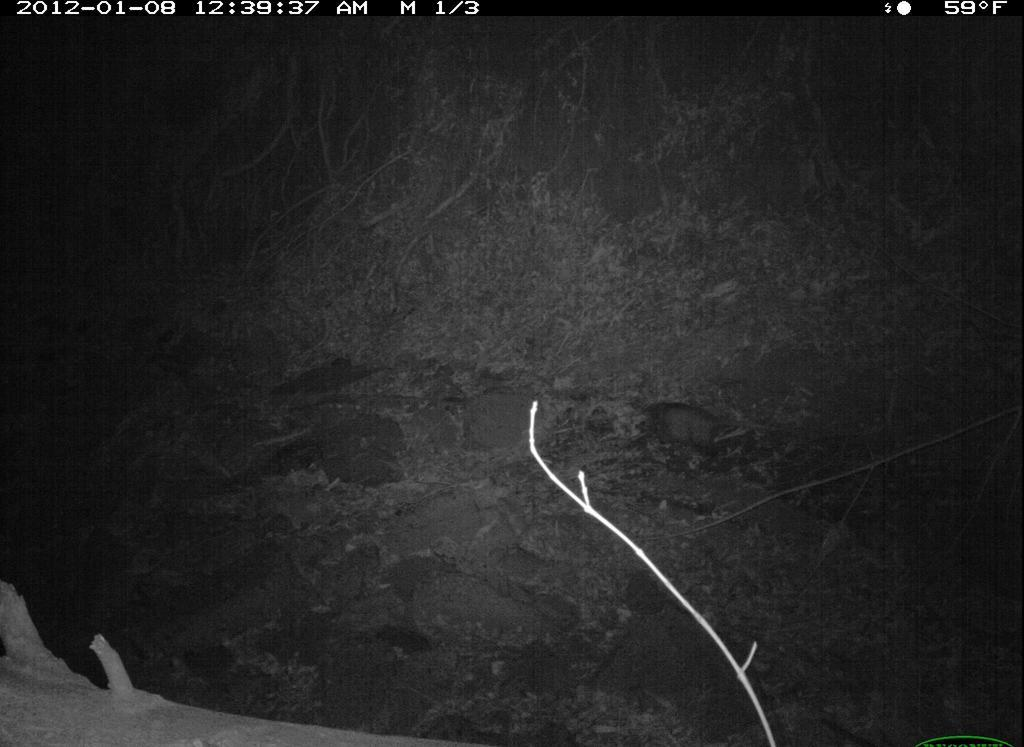opossum: (624, 383, 739, 483)
